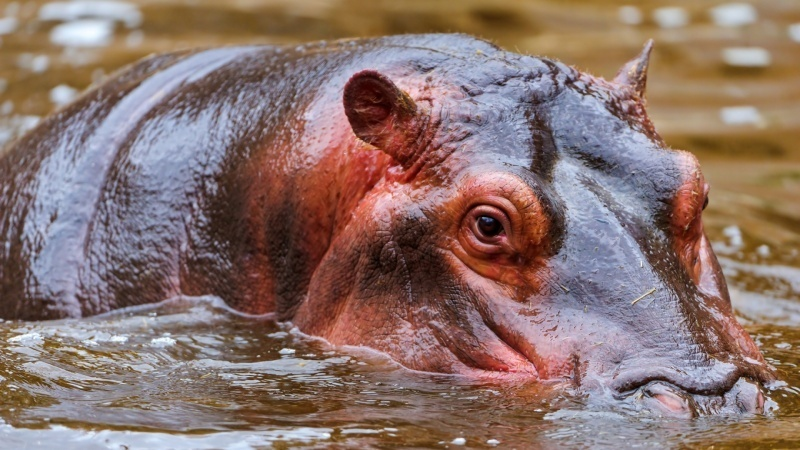hipopotamo: (0, 29, 787, 424)
